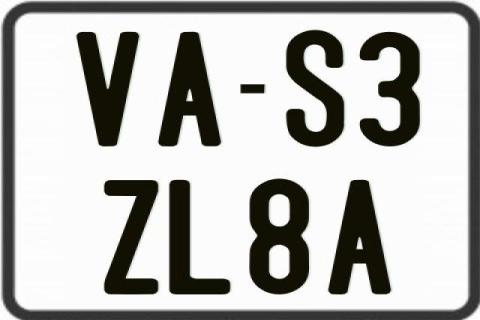0: (359, 32, 424, 150), (246, 177, 306, 296)
A: (325, 180, 393, 299), (158, 32, 224, 150)
L: (166, 180, 233, 296)
S: (286, 29, 350, 147)
V: (77, 32, 142, 148)
Z: (101, 180, 155, 299)
